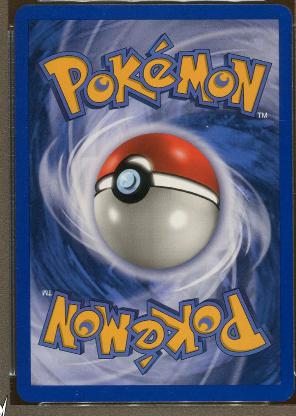Card: (12, 3, 294, 405)
Corner Wear: (286, 396, 289, 399)
